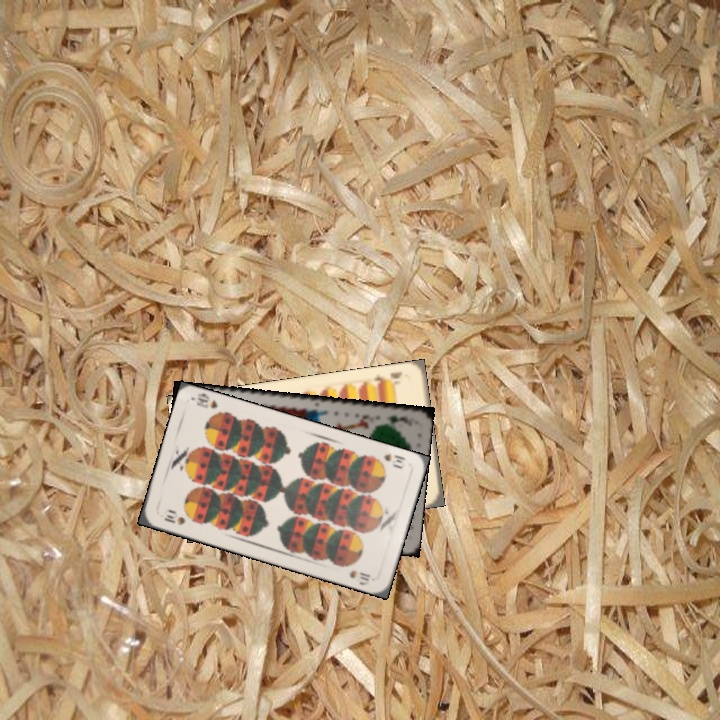E10: (369, 367, 404, 389)
GK: (377, 411, 405, 427)
S10: (370, 449, 408, 471), (159, 506, 188, 528)
